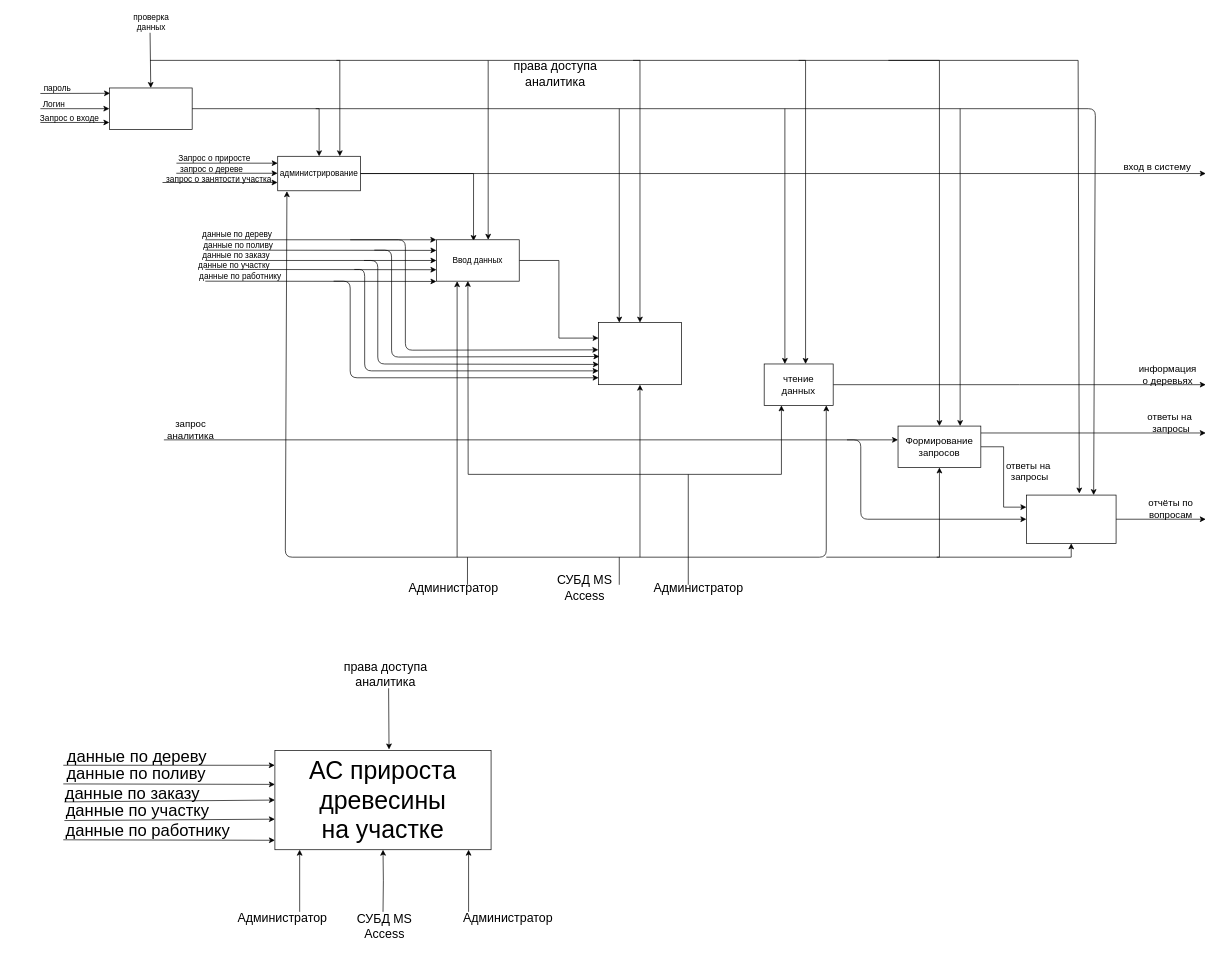
Image size: 1223x953. Some labels were removed from this diagram. The shapes that lost their labels are listed below. From the top down, each one's box as (x1, y1, x2, y2) in pixels, then its label:
(109, 87, 192, 129): Авторизация
(598, 322, 681, 385): редактирование данных
(1026, 494, 1116, 543): формирование отчётов
